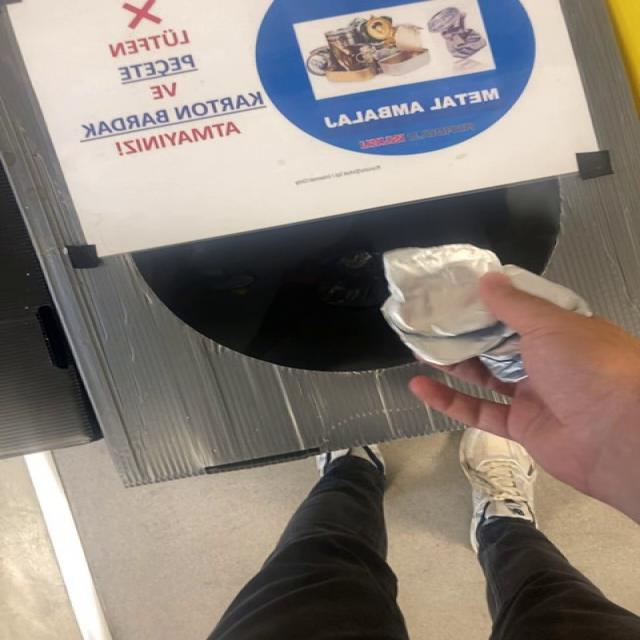metal: (384, 244, 503, 337)
